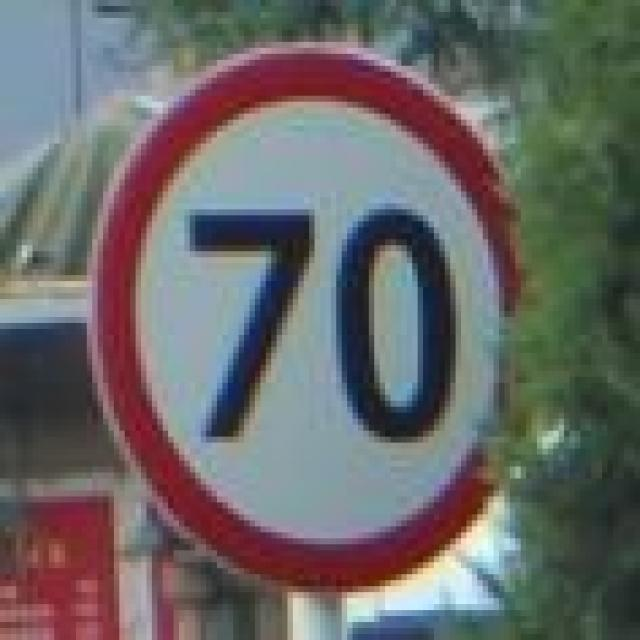speed limit 70: (88, 44, 547, 599)
